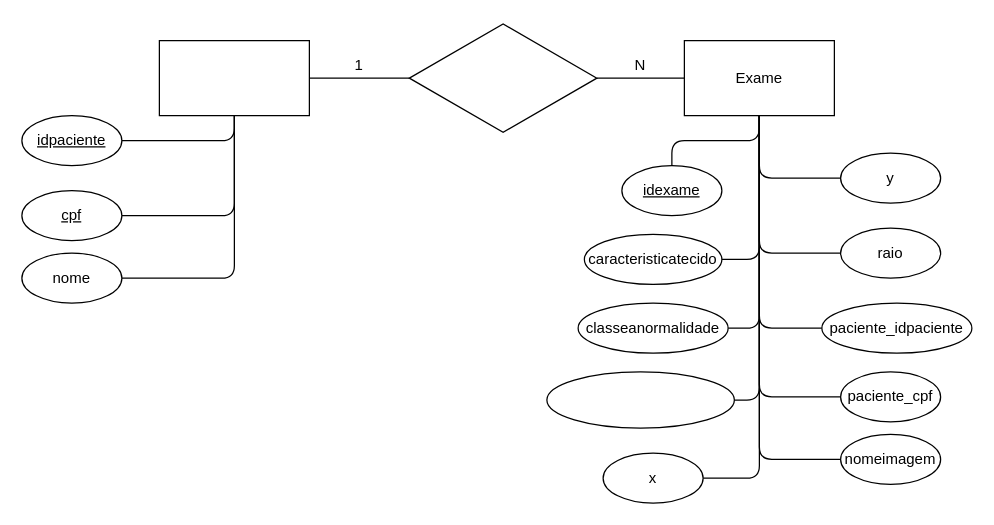
The diagram is 994 pixels wide and 525 high, and some of its shapes have lost their labels. The shapes that lost their labels are listed below. From the top down, each one's box as (x1, y1, x2, y2) in pixels, then its label:
(158, 39, 309, 116): Paciente
(408, 21, 597, 134): Possui
(546, 371, 734, 428): gravidadeanormalidade
